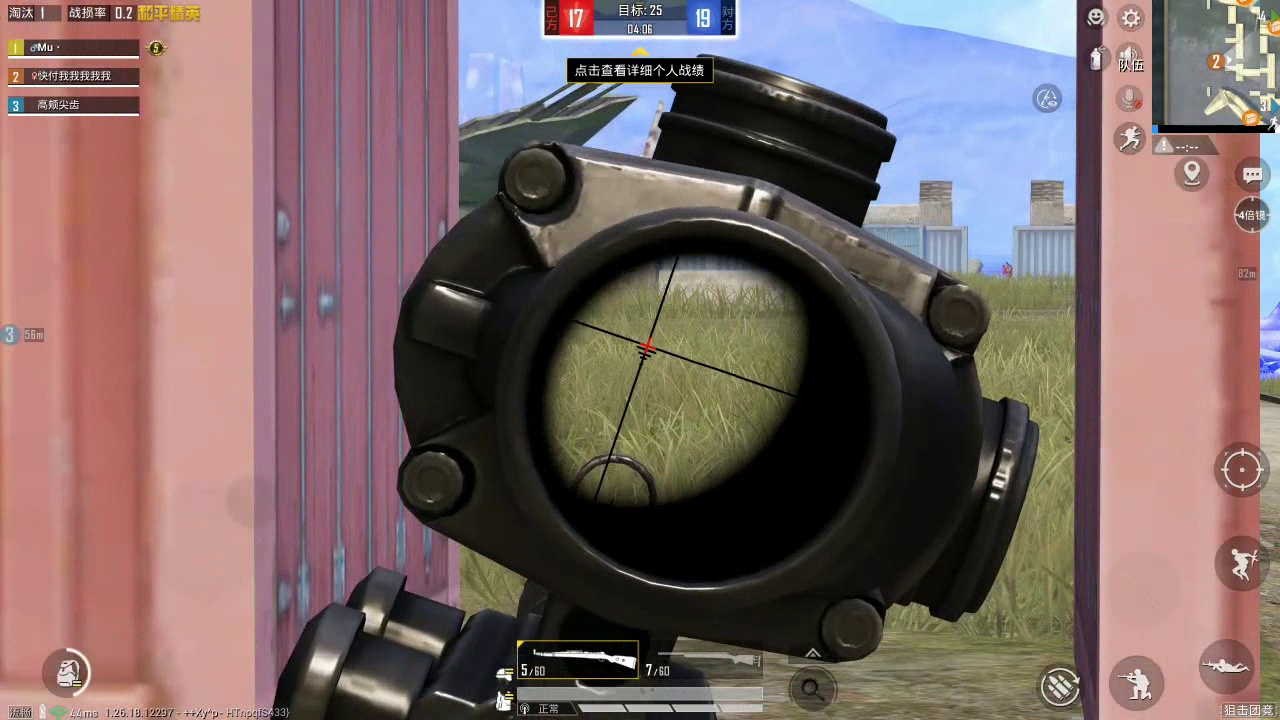enemy: (1003, 258, 1014, 277)
